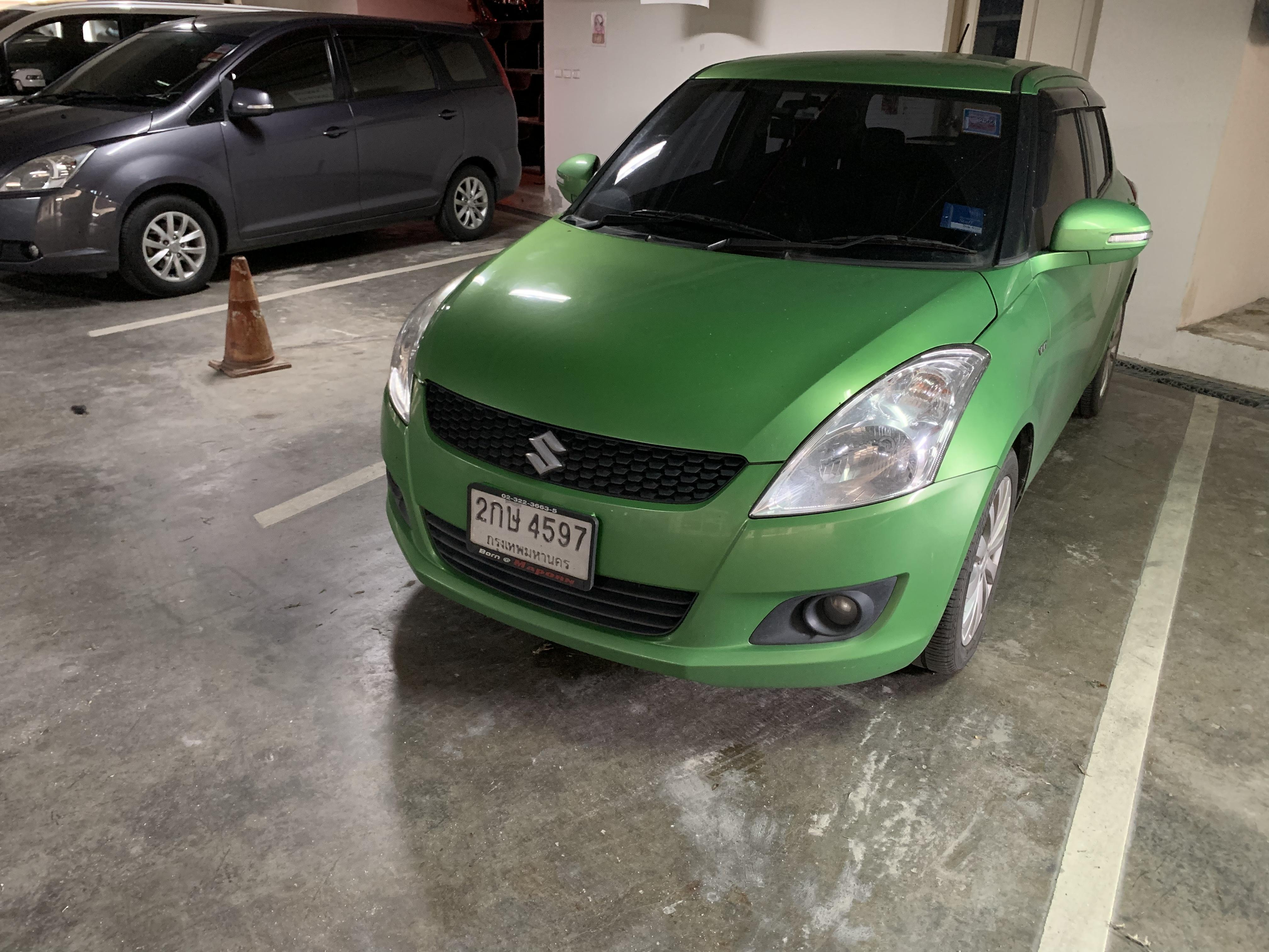license-plate: (466, 482, 598, 596)
